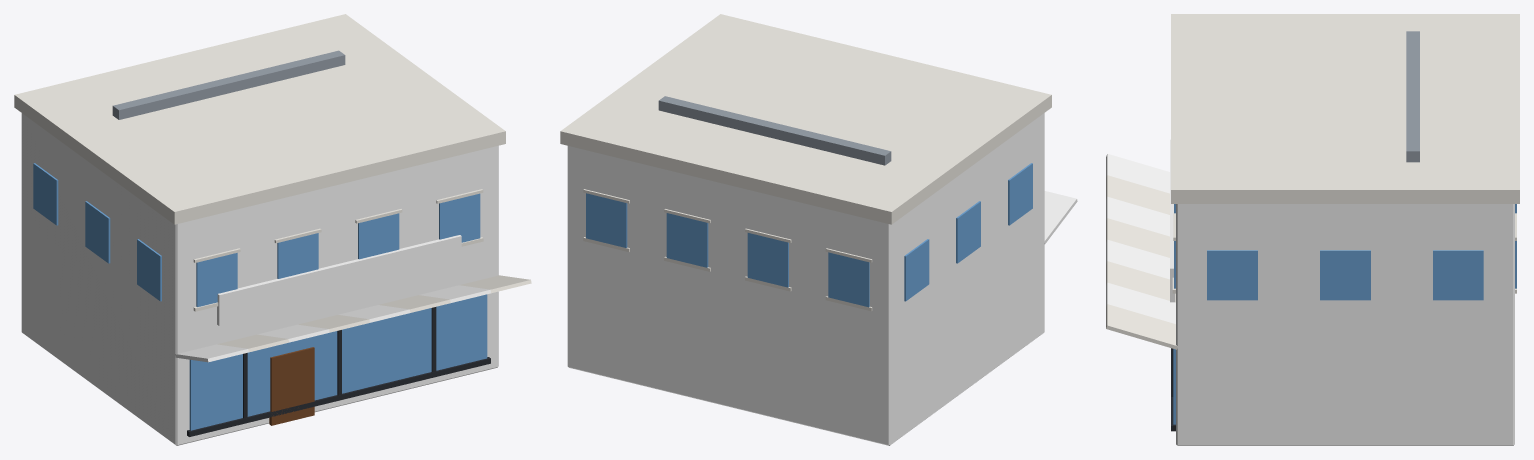
File: restaurant.glb
The picture shows the model from 3 angles, left to right: view 1: azimuth 30°, elevation 25°; view 2: azimuth 150°, elevation 25°; view 3: azimuth 270°, elevation 25°; orthographic projection. The views are drawn at different scales.
Parts seen in each view (by area): view 1: restaurant_walls, restaurant_sign, restaurant_awning; view 2: restaurant_walls, restaurant_awning; view 3: restaurant_walls, restaurant_awning, restaurant_sign.
Boxes of the visible parts, x1,y1,x2,y2 form: restaurant_walls: [14, 14, 505, 445]; restaurant_sign: [217, 235, 461, 326]; restaurant_awning: [175, 275, 531, 362]; restaurant_walls: [560, 14, 1051, 445]; restaurant_awning: [1044, 191, 1077, 243]; restaurant_walls: [1171, 14, 1519, 445]; restaurant_awning: [1106, 153, 1177, 349]; restaurant_sign: [1170, 139, 1175, 302].
Size of the model in its own units: 12.3 by 8.78 by 12.21.
